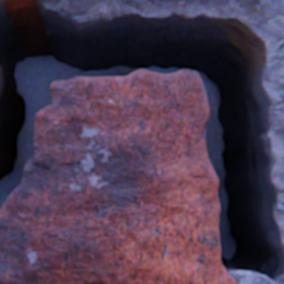brick: (0, 0, 20, 1)
broken_brick: (0, 70, 234, 283)
crack: (0, 0, 283, 283)
